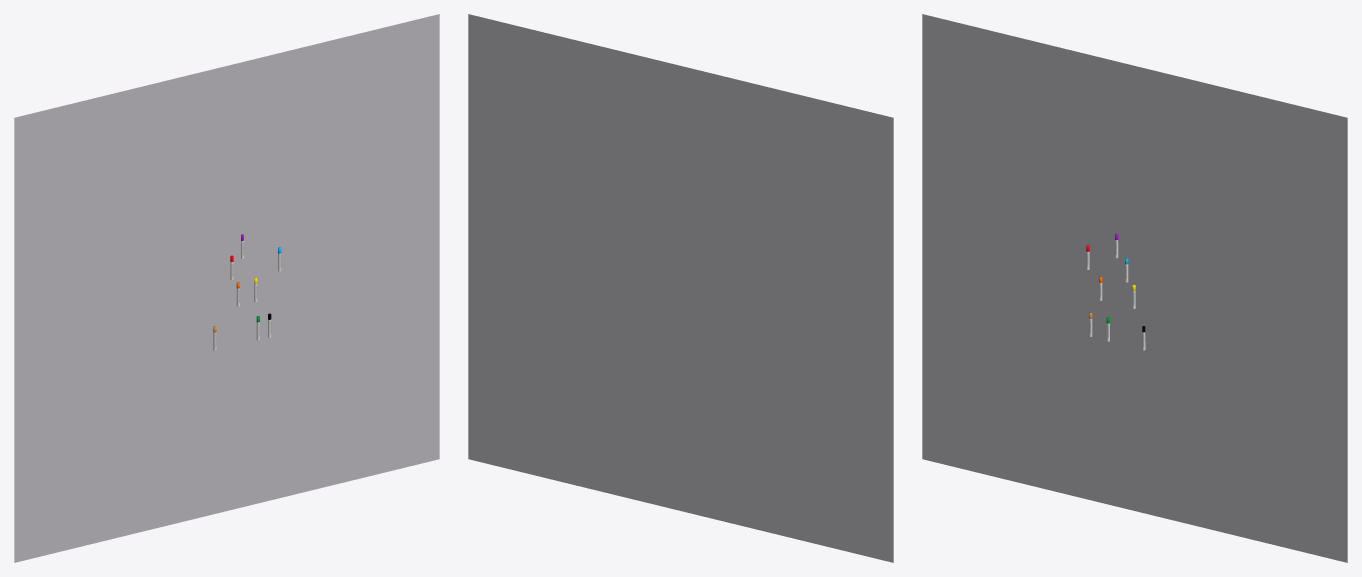
File: ripaidan_marker_set.glb
3 views of the same model, side by side, from view 1: azimuth 30°, elevation 25°; view 2: azimuth 150°, elevation 25°; view 3: azimuth 330°, elevation 25° (orthographic).
Visible parts, largest first — view 1: Plane.001; view 2: Plane.001; view 3: Plane.001.
Boxes of the visible parts, <box> form: Plane.001: <box>14,14,439,562</box>; Plane.001: <box>468,14,893,562</box>; Plane.001: <box>922,14,1347,562</box>.
Bounding box in the file's own units: 96 × 96 × 12.25.
Materials: 12 (1 with a texture image).
